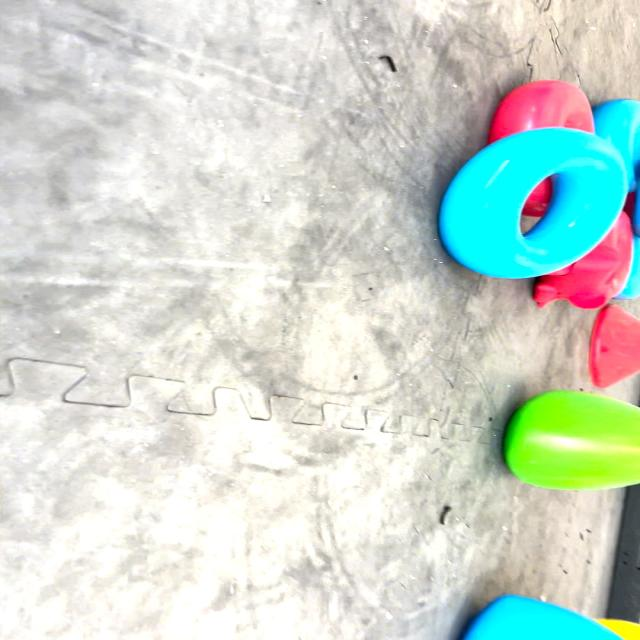Blue-Ring: (439, 126, 629, 278), (593, 99, 639, 191)
Red-Ring: (492, 80, 594, 217)
